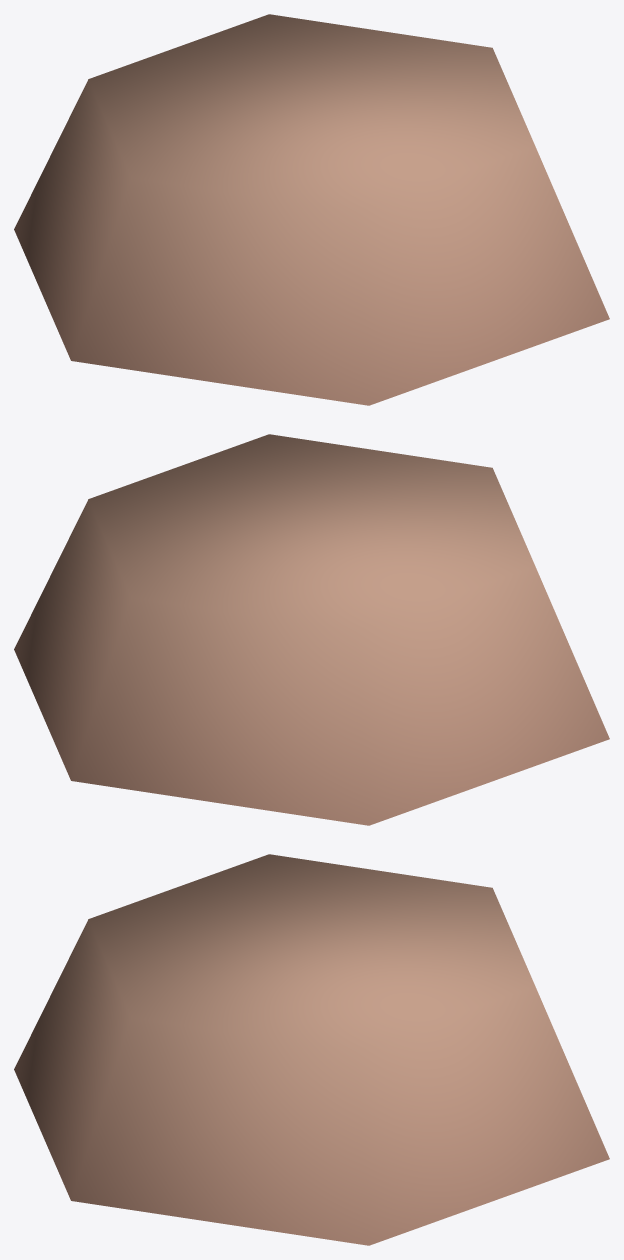
The model's file is (%no-merge) 12.glb.
3 renders of one model, top to bottom at view 1: azimuth 30°, elevation 25°; view 2: azimuth 150°, elevation 25°; view 3: azimuth 270°, elevation 25°, orthographic.
Visible parts, largest first — view 1: (%no-merge) 12; view 2: (%no-merge) 12; view 3: (%no-merge) 12.
Part boxes in pixels (x1,y1,x2,y2): (%no-merge) 12: (14, 14, 609, 405); (%no-merge) 12: (14, 434, 609, 825); (%no-merge) 12: (14, 854, 609, 1245).
Bounding box in the file's own units: 0.0698 × 0.02 × 0.0669.
